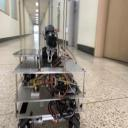cart: (11, 58, 87, 127)
